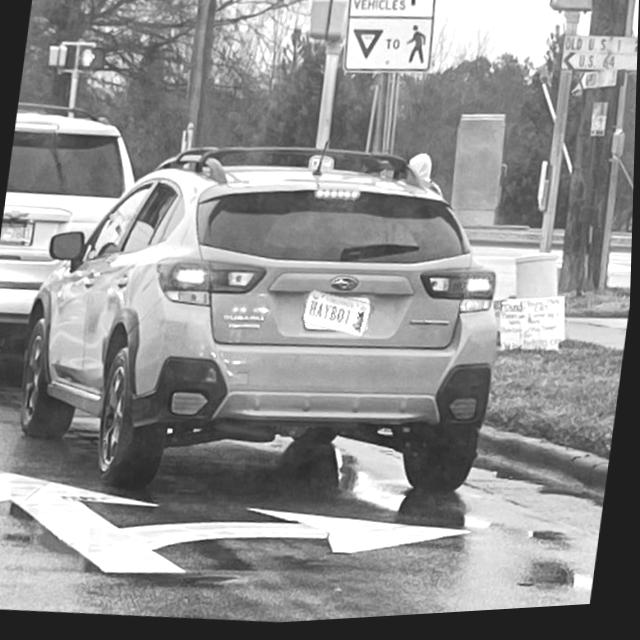LicensePlate: (303, 293, 375, 342)
